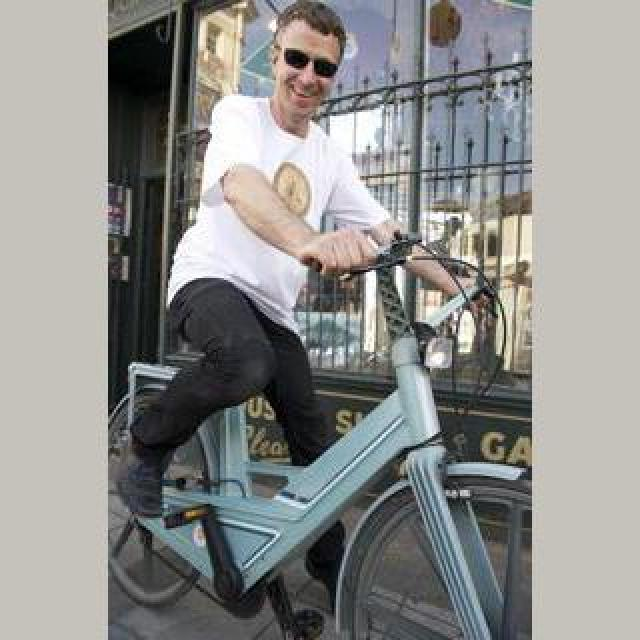MC-Bike: (142, 2, 476, 628)
Person: (110, 220, 532, 640)
